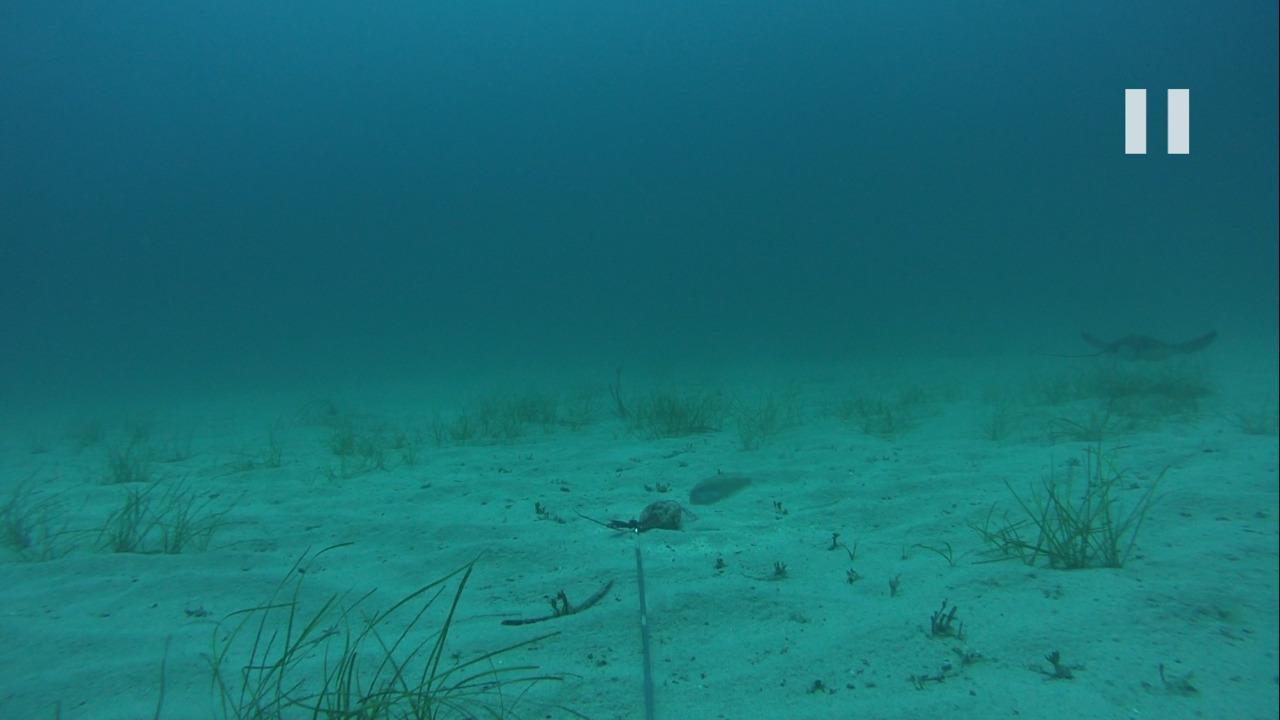myliobatis: (1021, 321, 1220, 368)
raor: (686, 467, 762, 507)
